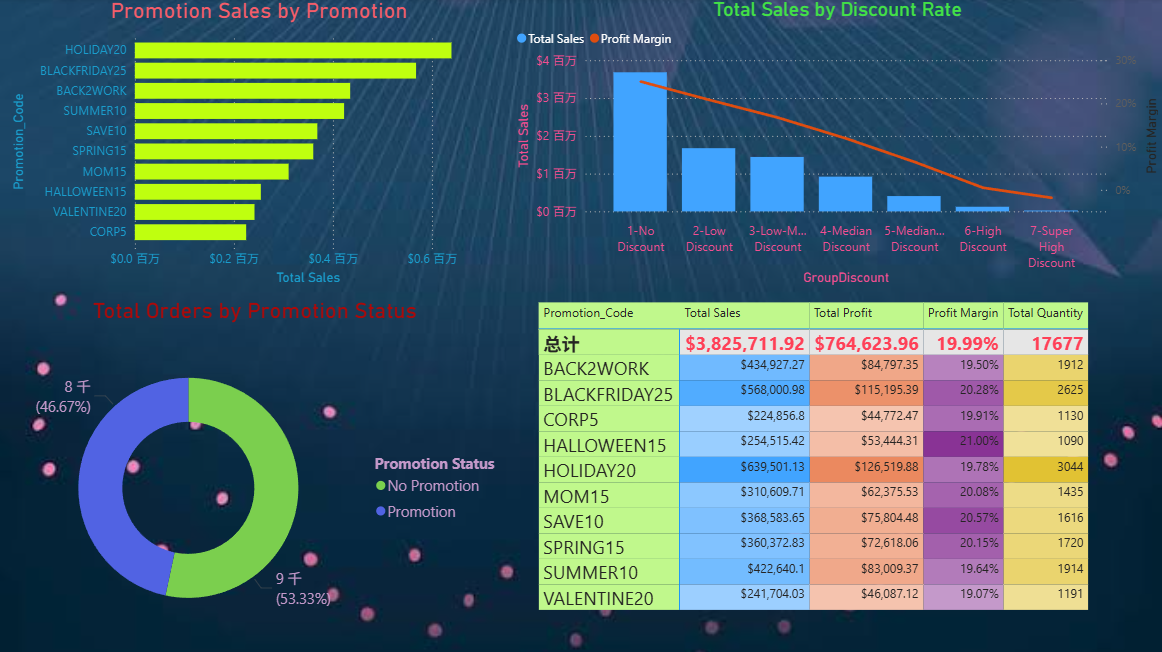

The page's visual inventory and layout, read from the dashboard file:
{"tool":"powerbi","page":{"name":"Promotion Sales & Discount","canvas":[1280,720],"ordinal":3},"visuals":[{"type":"clusteredBarChart","title":"Promotion Sales by Promotion","fields":{"Category":["DimPromotion.Promotion_Code"],"Y":["FactSales.Total Sales"]},"box":[10,0,554.3,320],"z":0},{"type":"lineClusteredColumnComboChart","title":"Total Sales by Discount Rate","fields":{"Y":["FactSales.Total Sales"],"Y2":["FactSales.Profit Margin"],"Category":["FactSales.GroupDiscount"]},"box":[564.3,0,715.7,320],"z":1000},{"type":"donutChart","title":"Total Orders by Promotion Status","fields":{"Y":["FactSales.Total Orders"],"Category":["FactSales.Promotion Status"]},"box":[0,330,564.3,390],"z":2000},{"type":"pivotTable","fields":{"Rows":["DimPromotion.Promotion_Code"],"Values":["FactSales.Total Sales","FactSales.Total Profit","FactSales.Profit Margin","FactSales.Total Quantity"]},"box":[588.6,330,671.4,390],"z":3000}]}

Visuals, with their boxes in screenshot pixels (x1, y1, x2, y2), scaled from the page's 1280x720 canvas onto the 1162x652 screenshot:
"Promotion Sales by Promotion" clusteredBarChart: <bbox>9, 0, 512, 290</bbox>
"Total Sales by Discount Rate" lineClusteredColumnComboChart: <bbox>512, 0, 1161, 290</bbox>
"Total Orders by Promotion Status" donutChart: <bbox>0, 299, 512, 651</bbox>
pivotTable - DimPromotion.Promotion_Code x FactSales.Total Sales: <bbox>534, 299, 1144, 651</bbox>
